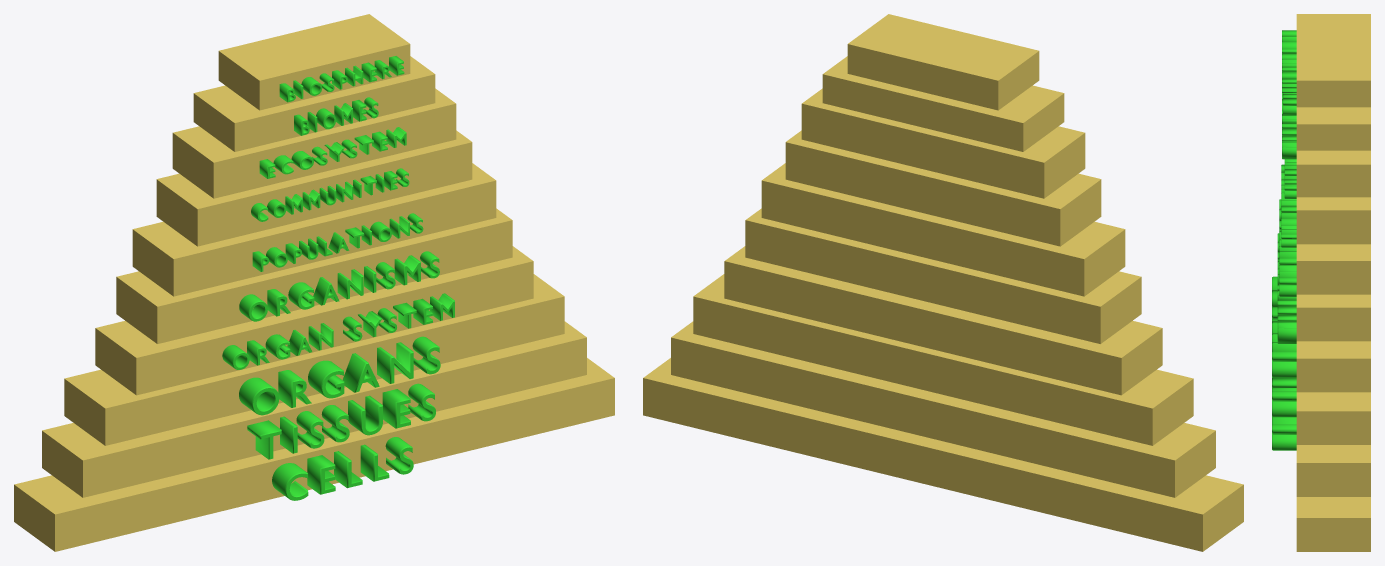
3 renders of one model, left to right at view 1: azimuth 30°, elevation 25°; view 2: azimuth 150°, elevation 25°; view 3: azimuth 270°, elevation 25°, orthographic. The views are drawn at different scales.
Parts seen in each view (by area): view 1: Cube, Cube.001, Cube.002, Cube.003, Cube.005, Cube.004, Cube.006, Cube.007, Cube.009, Cube.008, CEELS.002, CEELS.001 (+8 smaller); view 2: Cube, Cube.001, Cube.002, Cube.003, Cube.004, Cube.005, Cube.006, Cube.007, Cube.009, Cube.008; view 3: Cube.009, Cube, Cube.002, Cube.001, Cube.003, Cube.005, Cube.006, Cube.004, Cube.007, Cube.008, CEELS.002, CEELS.003 (+8 smaller).
Boxes of the visible parts, box(x1,y1,x2,y2) form: Cube: box(14, 358, 614, 551); Cube.001: box(42, 321, 586, 497); Cube.002: box(64, 274, 564, 445); Cube.003: box(95, 246, 533, 395); Cube.005: box(132, 163, 496, 296); Cube.004: box(116, 208, 512, 343); Cube.006: box(156, 130, 472, 246); Cube.007: box(172, 88, 456, 198); Cube.009: box(218, 14, 410, 110); Cube.008: box(193, 56, 435, 151); CEELS.002: box(239, 336, 440, 415); CEELS.001: box(247, 383, 435, 459); Cube: box(643, 358, 1243, 551); Cube.001: box(671, 321, 1215, 497); Cube.002: box(693, 274, 1193, 445); Cube.003: box(724, 246, 1162, 395); Cube.004: box(745, 208, 1141, 343); Cube.005: box(761, 163, 1125, 296); Cube.006: box(785, 130, 1101, 246); Cube.007: box(801, 88, 1085, 198); Cube.009: box(847, 14, 1039, 110); Cube.008: box(822, 56, 1064, 151); Cube.009: box(1296, 14, 1370, 107); Cube: box(1296, 497, 1370, 551); Cube.002: box(1296, 392, 1370, 444); Cube.001: box(1296, 445, 1370, 496); Cube.003: box(1296, 341, 1370, 392); Cube.005: box(1296, 244, 1370, 294); Cube.006: box(1296, 197, 1370, 244); Cube.004: box(1296, 294, 1370, 341); Cube.007: box(1296, 150, 1370, 197); Cube.008: box(1296, 107, 1370, 150); CEELS.002: box(1272, 276, 1296, 377); CEELS.003: box(1277, 233, 1296, 343).
Bounding box in the file's own units: 4.85 × 3.49 × 0.8191.
